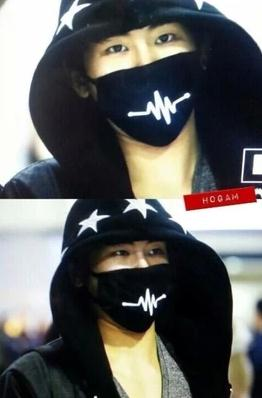face_mask: (92, 1, 192, 145), (96, 227, 167, 336)
